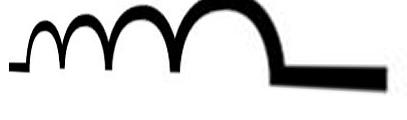inductor: (15, 0, 294, 95)
